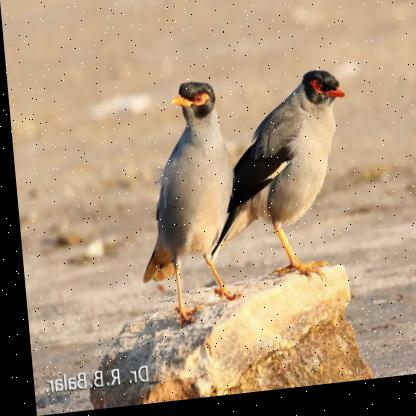Burung: (190, 74, 354, 295), (124, 82, 239, 333)
